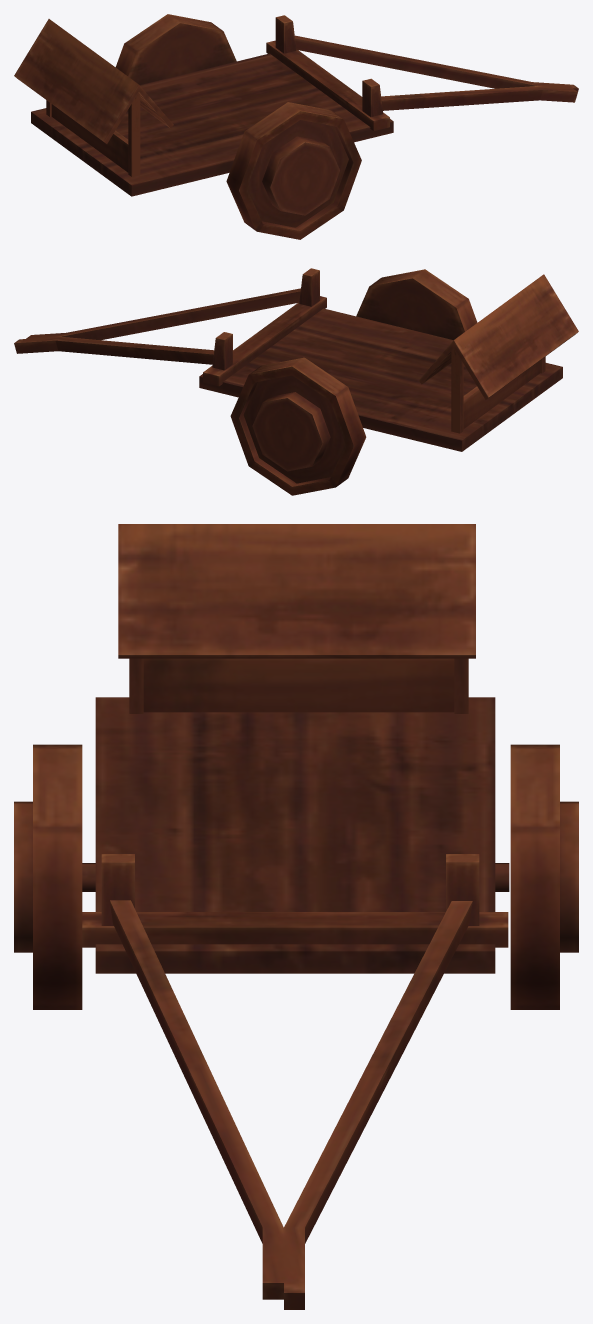
Rendered from Stage_01_01_ShouTuiChe01.FBX.
The picture shows the model from 3 angles, top to bottom: view 1: azimuth 30°, elevation 25°; view 2: azimuth 150°, elevation 25°; view 3: azimuth 270°, elevation 25°; orthographic projection. The views are drawn at different scales.
Parts seen in each view (by area): view 1: Stage_01_01_ShouTuiChe01; view 2: Stage_01_01_ShouTuiChe01; view 3: Stage_01_01_ShouTuiChe01.
Boxes of the visible parts, x1,y1,x2,y2 form: Stage_01_01_ShouTuiChe01: (14,14,578,239); Stage_01_01_ShouTuiChe01: (14,268,578,495); Stage_01_01_ShouTuiChe01: (14,524,578,1309).
Size of the model in its own units: 650 by 209 by 310.
